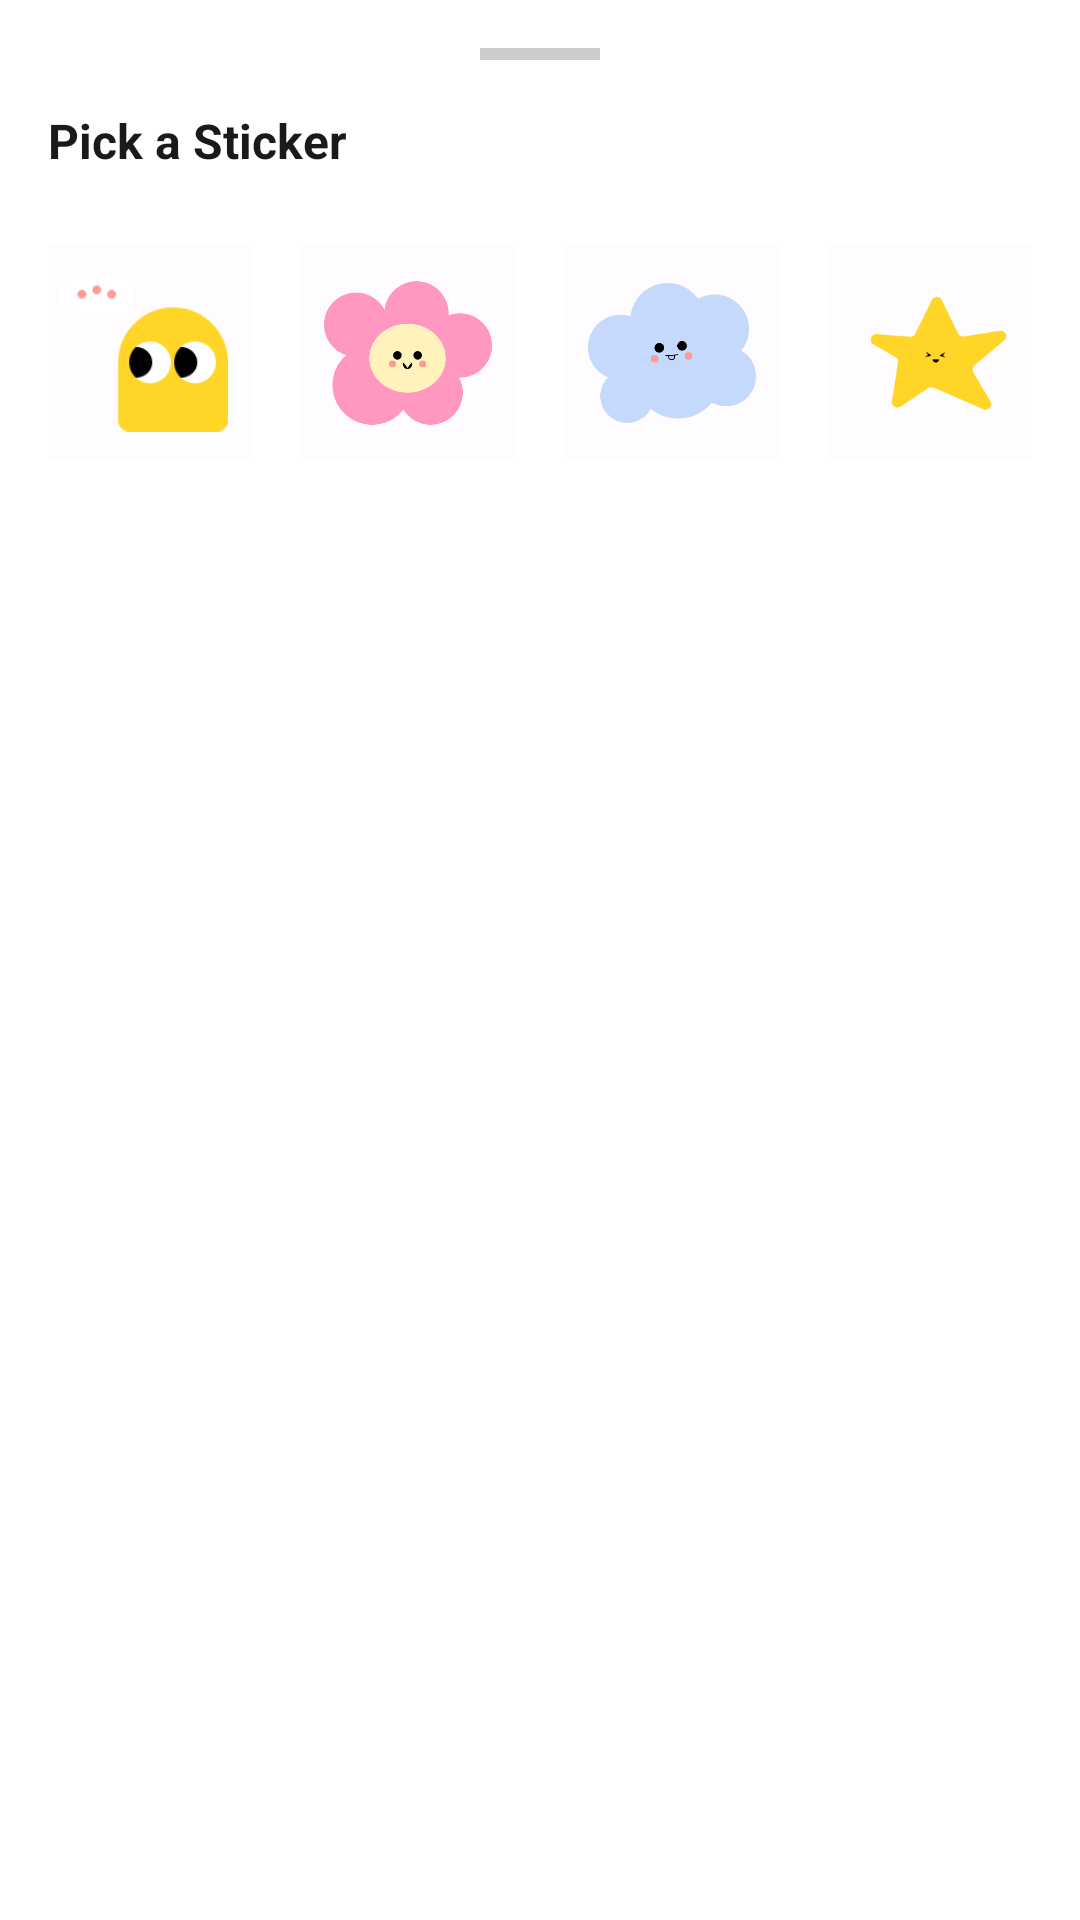

Locate icon controls on the screen. Image size 1080px×1920px, boxes as (x1, y1, x2, y2).
Cloud sticker: (588, 283, 756, 423)
Flower sticker: (324, 281, 492, 425)
Star sticker: (870, 297, 1006, 410)
Think sticker: (77, 285, 228, 432)
